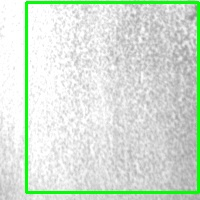pitted_surface: (26, 2, 198, 192)
